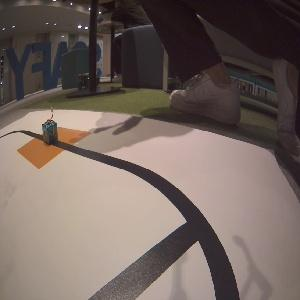box: (40, 119, 58, 146)
